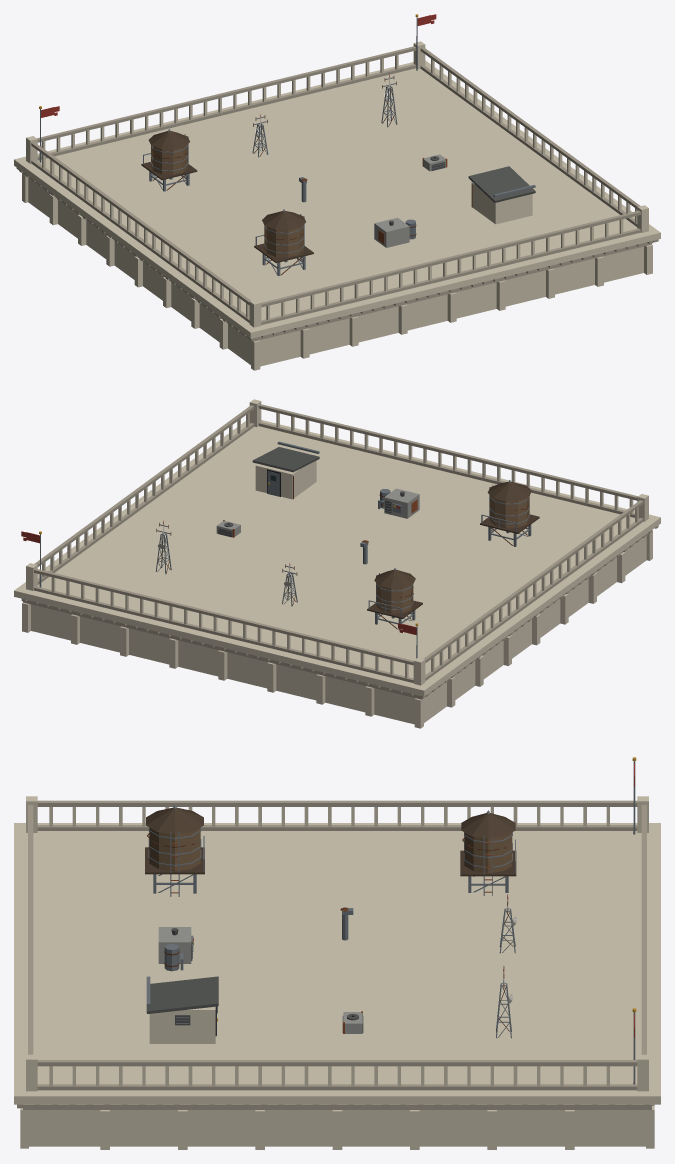
File: tw_stone_32_crown.glb
The picture shows the model from 3 angles, top to bottom: view 1: azimuth 30°, elevation 25°; view 2: azimuth 150°, elevation 25°; view 3: azimuth 270°, elevation 25°; orthographic projection. The views are drawn at different scales.
Parts seen in each view (by area): view 1: tw_stone_32_crown; view 2: tw_stone_32_crown; view 3: tw_stone_32_crown.
Boxes of the visible parts, x1,y1,x2,y2 form: tw_stone_32_crown: (14,14,660,370); tw_stone_32_crown: (14,399,660,728); tw_stone_32_crown: (14,757,660,1149).
Bounding box in the file's own units: 33.62 × 7.75 × 33.44.
Materials: 3 (3 with a texture image).
